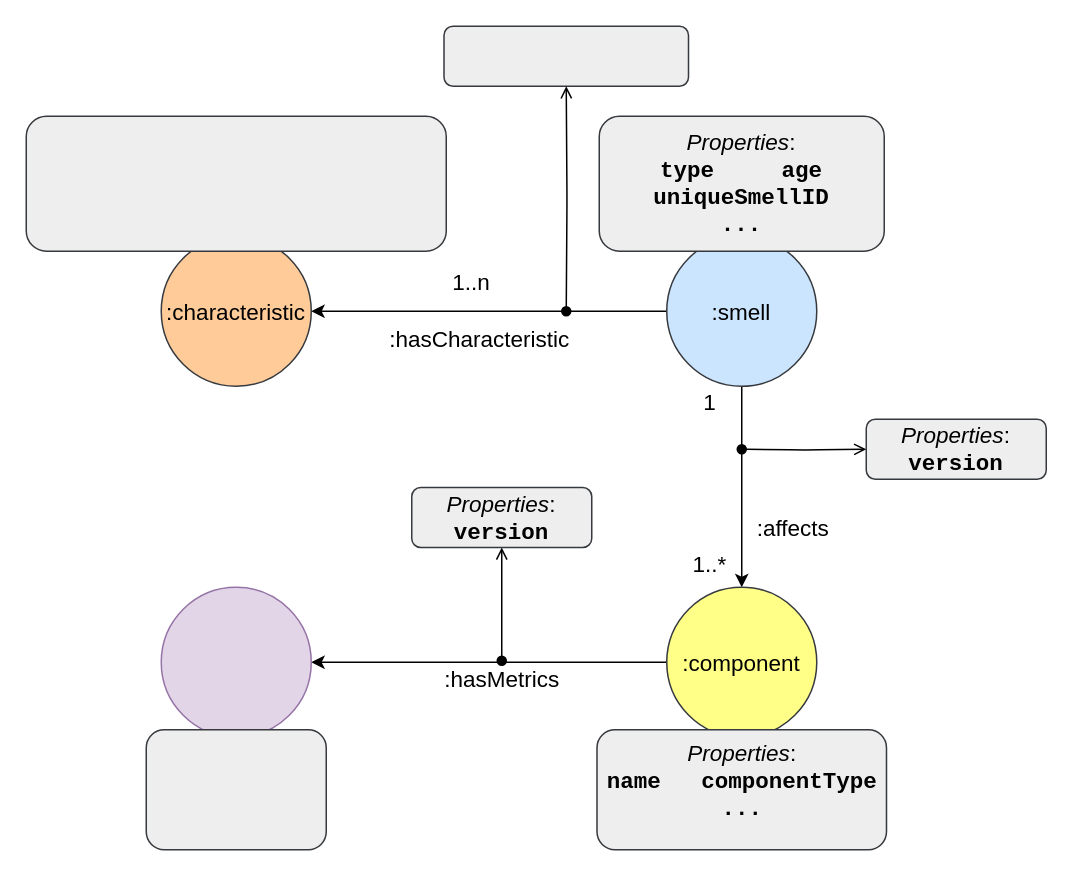
Some shapes in this 1073 by 876 pixel diagram are drawn without their labels. Each missing label, with the box of its shape:
:component Characteristic: (160, 586, 311, 737)
Properties : linesOfCode ....: (145, 728, 326, 850)
Properties : size pageRank overlapRatio numOfEdges ...: (25, 115, 446, 251)
Properties : version smellId: (442, 25, 688, 86)
